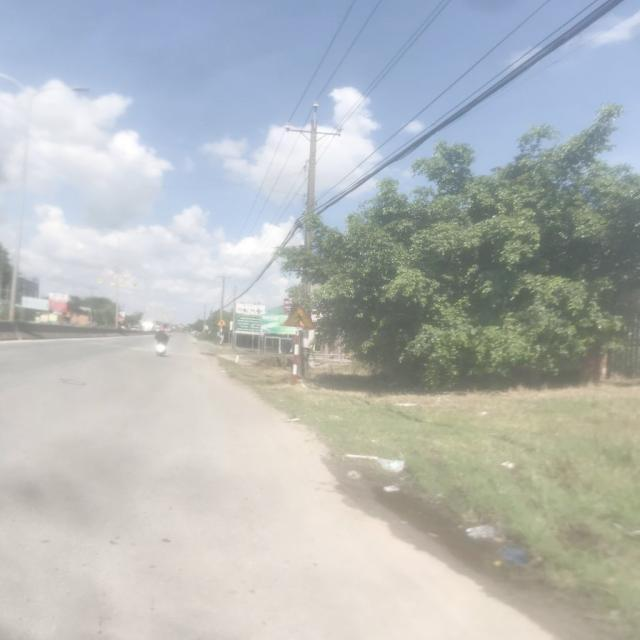224-duong-nguoi-di-bo-cat-ngang: (282, 304, 316, 330)
